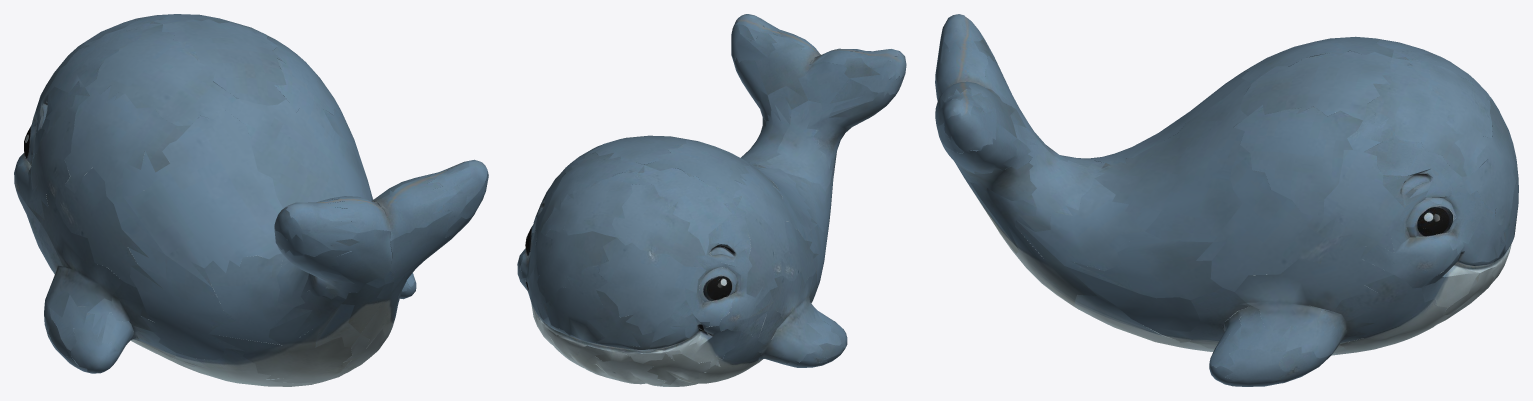
File: balena.glb
3 renders of one model, left to right at view 1: azimuth 30°, elevation 25°; view 2: azimuth 150°, elevation 25°; view 3: azimuth 270°, elevation 25°, orthographic. The views are drawn at different scales.
Parts seen in each view (by area): view 1: balena; view 2: balena; view 3: balena.
Part boxes in pixels (left/top/right/bottom): balena: left=14, top=14, right=488, bottom=386; balena: left=517, top=14, right=906, bottom=386; balena: left=935, top=14, right=1518, bottom=386.
Bounding box in the file's own units: 0.5033 × 0.3805 × 0.7501.
1 material, 1 textured.
